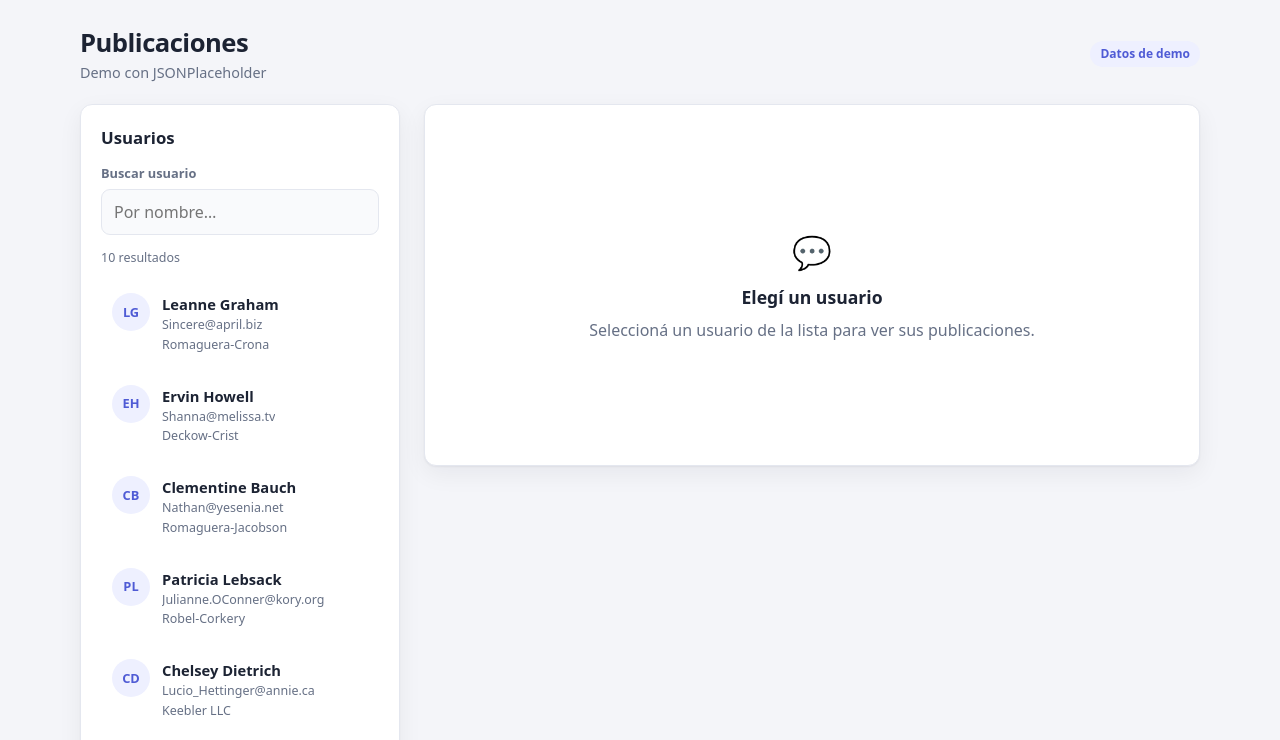
Test: lista de usuarios › muestra los 10 usuarios y filtra por nombre sin distinguir mayúsculas
In the search field labelled "Buscar usuario": (240, 212) top-left (101, 189), bottom-right (379, 235), type "LEANNE"
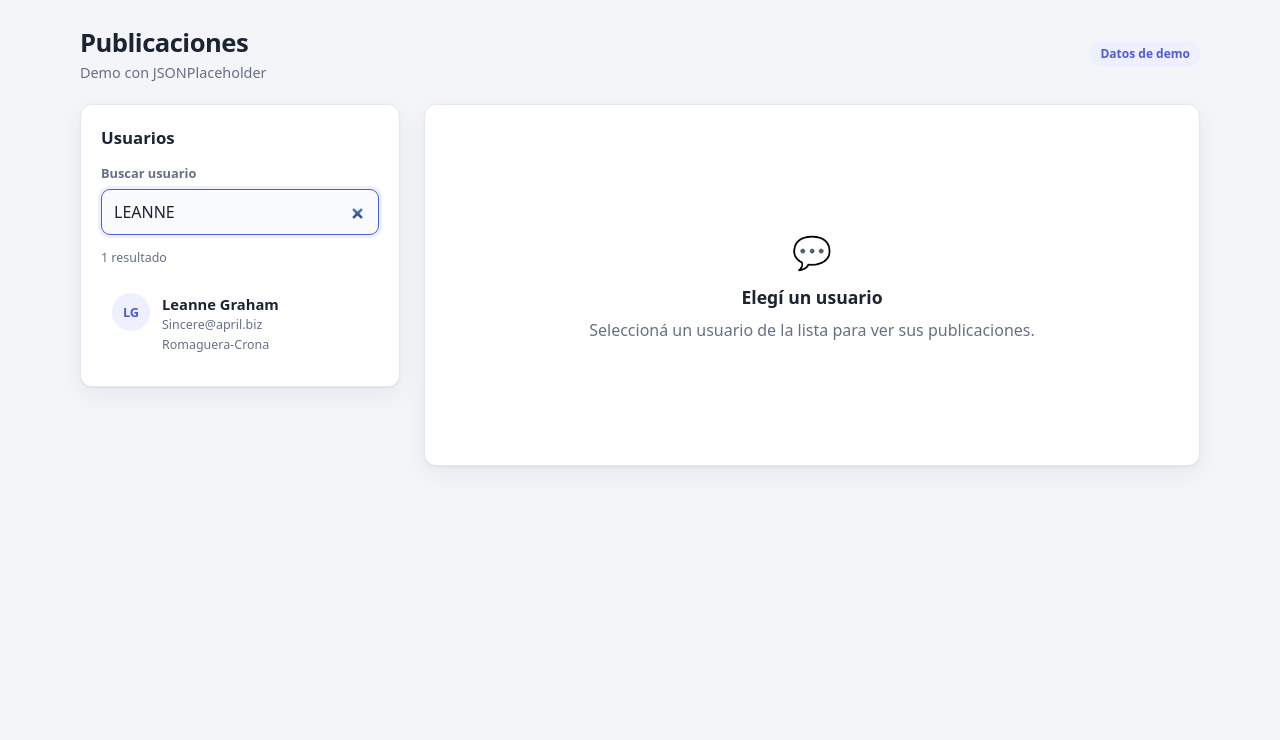
Now the number of list items is 1, box top-left (101, 282), bottom-right (379, 366)
Now the text "1 resultado" is shown, box top-left (101, 249), bottom-right (167, 266)
